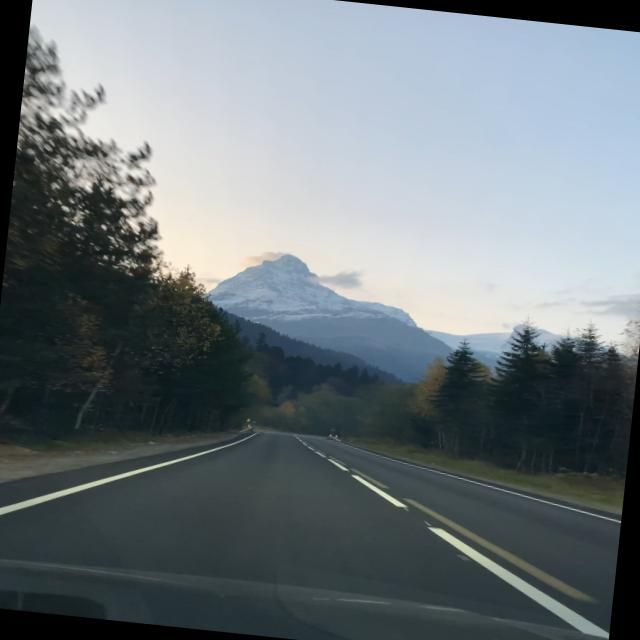asphalt: (0, 431, 621, 637)
